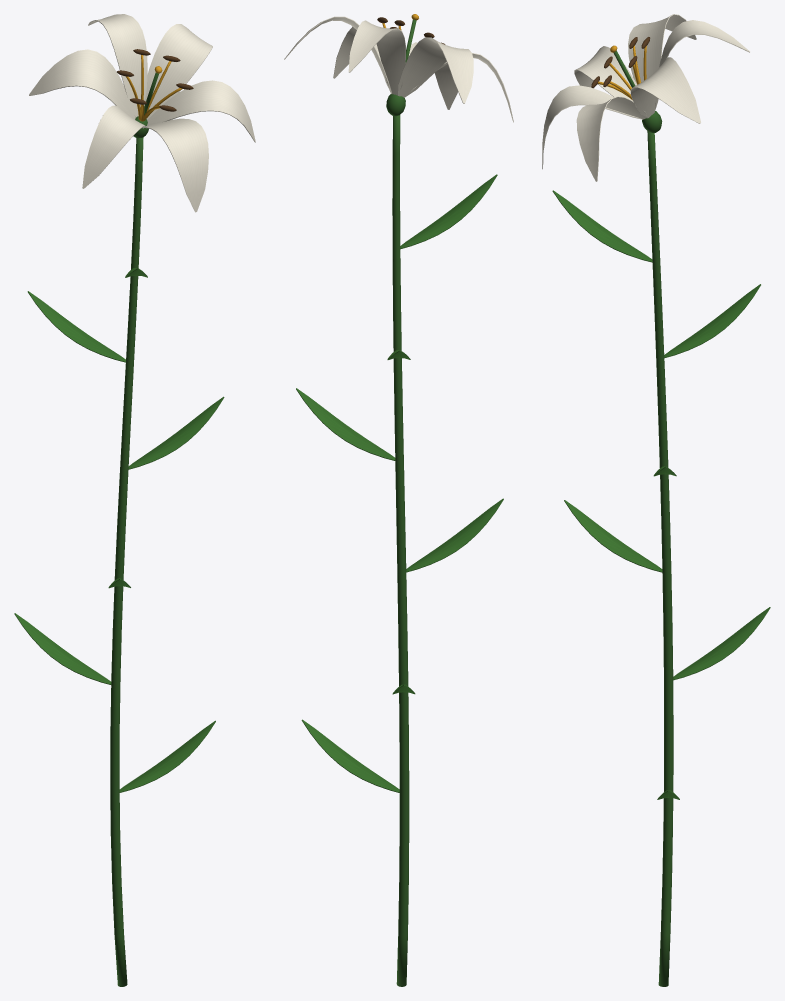
File: Lily_Tall.fbx
3 renders of one model, left to right at view 1: azimuth 30°, elevation 25°; view 2: azimuth 150°, elevation 25°; view 3: azimuth 270°, elevation 25°, orthographic.
Visible parts, largest first — view 1: Lily_Tall; view 2: Lily_Tall; view 3: Lily_Tall.
Part boxes in pixels (x1,y1,x2,y2): Lily_Tall: (14,14,255,986); Lily_Tall: (284,14,513,986); Lily_Tall: (542,14,770,986).
Size of the model in its own units: 0.129 by 0.65 by 0.1397.
Materials: 5 (5 with a texture image).
